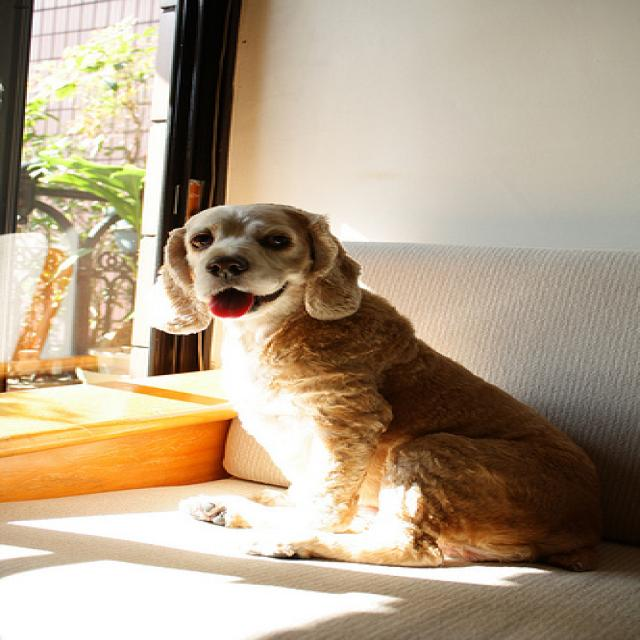dog-english_cocker_spaniel: (121, 189, 628, 585)
